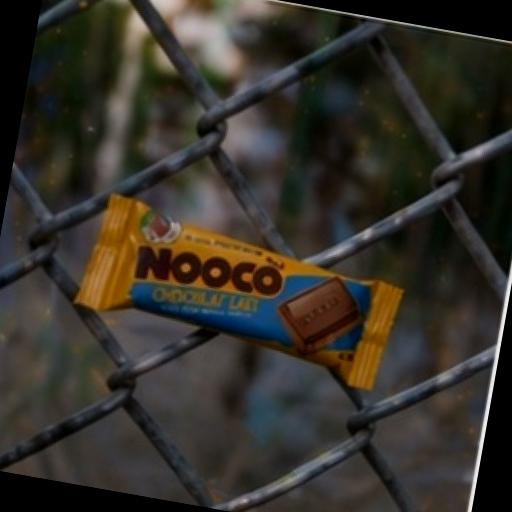nooco: (44, 148, 448, 437)
